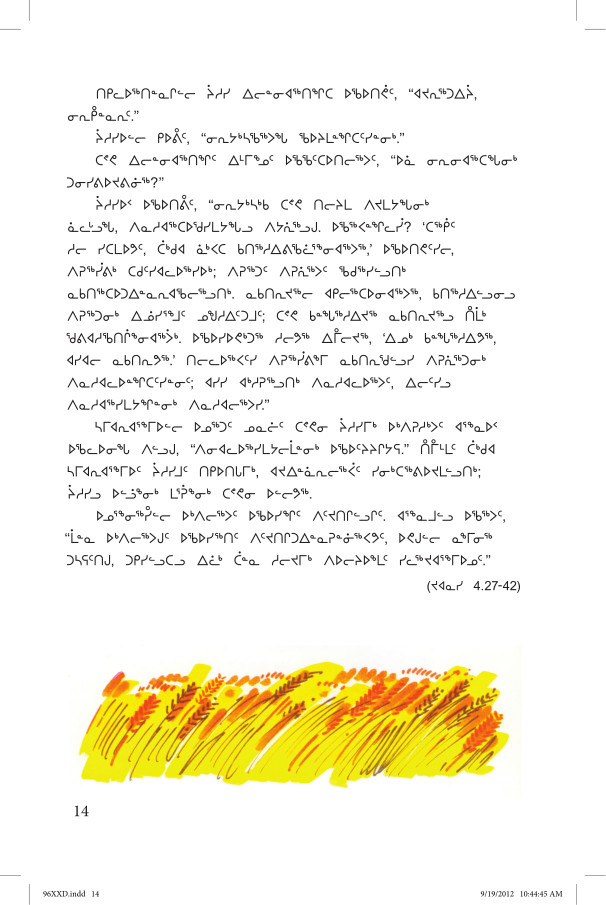inuktitut: (57, 73, 520, 572)
